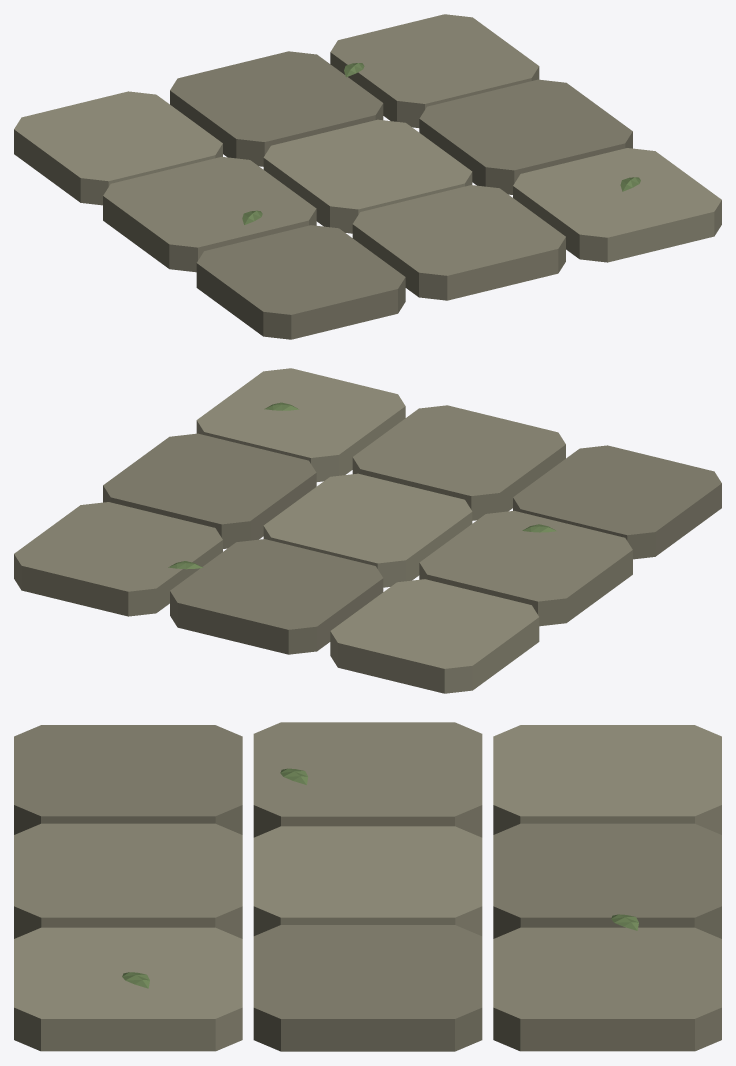
The model's file is path_stone_b.glb.
The picture shows the model from 3 angles, top to bottom: view 1: azimuth 30°, elevation 25°; view 2: azimuth 150°, elevation 25°; view 3: azimuth 270°, elevation 25°; orthographic projection. The views are drawn at different scales.
Visible parts, largest first — view 1: geometry; view 2: geometry; view 3: geometry.
Boxes of the visible parts, left/top/right/bottom form: geometry: left=14, top=14, right=721, bottom=339; geometry: left=14, top=368, right=721, bottom=693; geometry: left=14, top=722, right=721, bottom=1051.
Bounding box in the file's own units: 0.9767 × 0.0634 × 0.9847.
